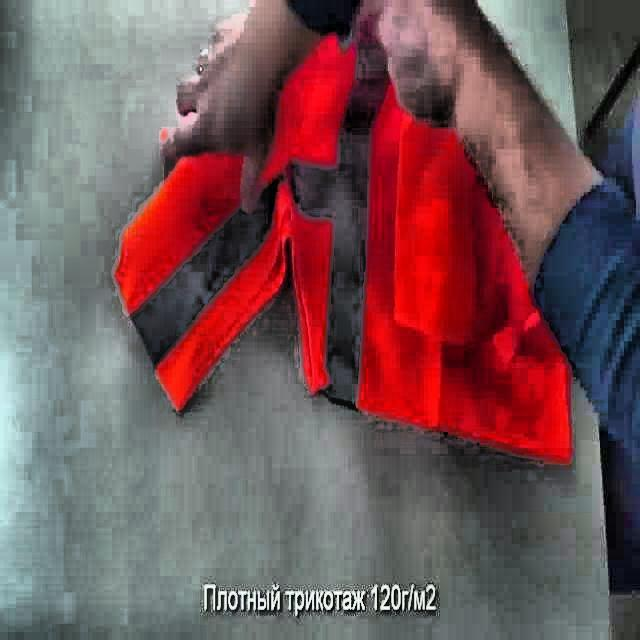safety_jacket: (108, 27, 578, 466)
